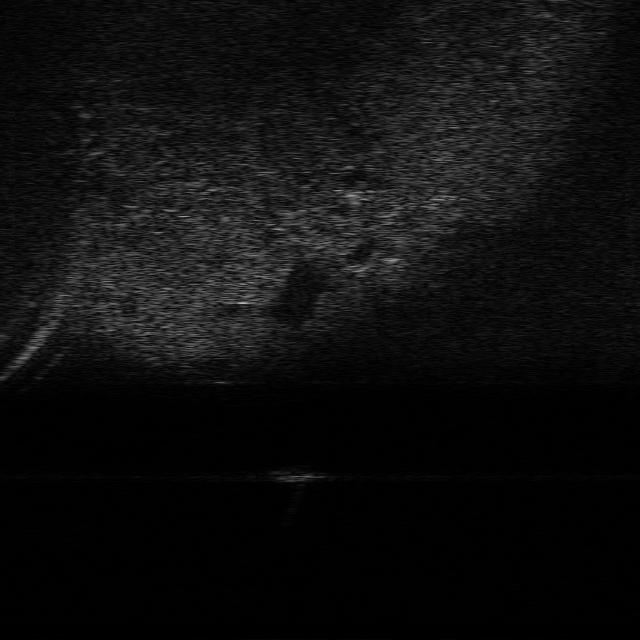cube: (270, 461, 325, 486)
